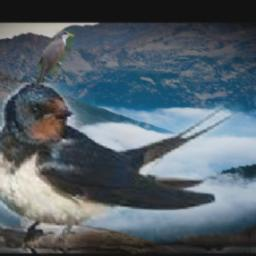Cuckoo: (34, 30, 76, 96)
Swallow: (0, 83, 256, 253)
